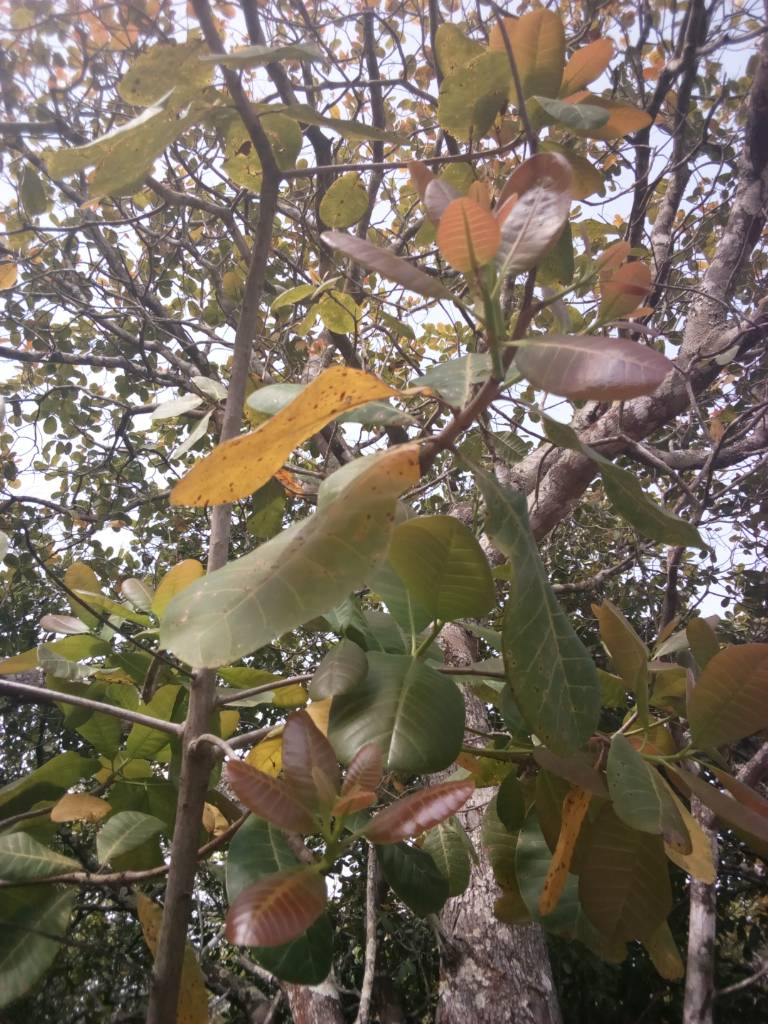Anthracnose: (165, 442, 421, 661), (172, 367, 422, 519)
